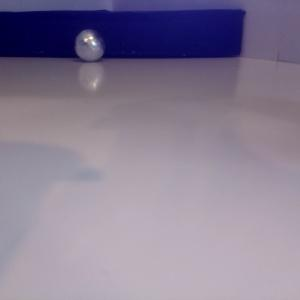zone: (1, 9, 245, 59)
